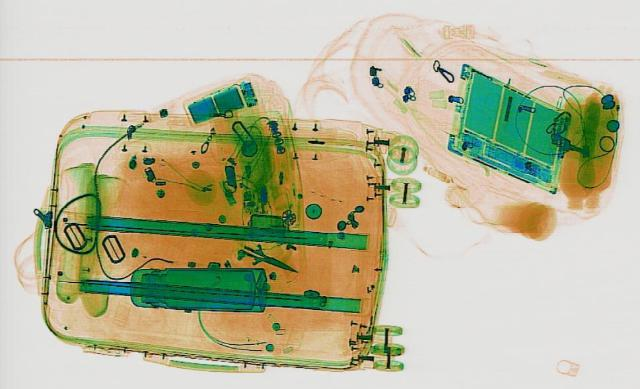Knife: (228, 239, 306, 277)
